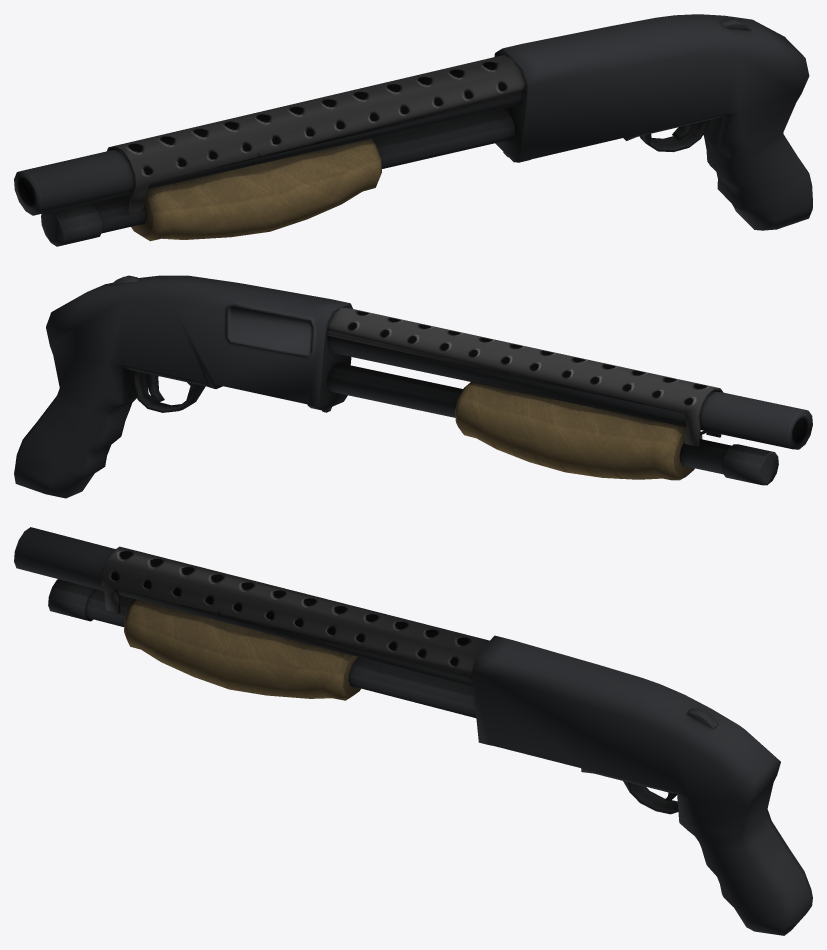
The model's file is shotgun.dae.
The picture shows the model from 3 angles, top to bottom: view 1: azimuth 30°, elevation 25°; view 2: azimuth 150°, elevation 25°; view 3: azimuth 330°, elevation 25°; orthographic projection. The views are drawn at different scales.
Parts seen in each view (by area): view 1: mesh; view 2: mesh; view 3: mesh.
Part boxes in pixels (bbox=[...]): mesh: bbox=[14, 14, 812, 246]; mesh: bbox=[14, 275, 812, 498]; mesh: bbox=[14, 527, 812, 935].
Bounding box in the file's own units: 30.46 × 4.03 × 9.2.
1 material, 1 textured.
